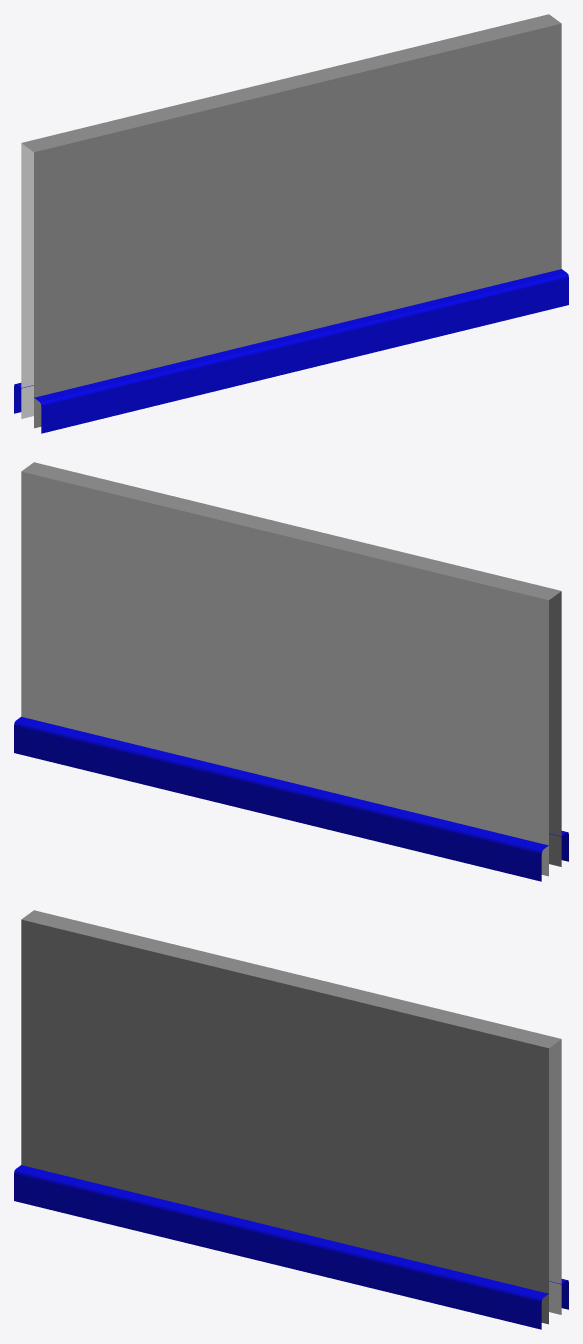
The model's file is HalfPlainWall.fbx.
The picture shows the model from 3 angles, top to bottom: view 1: azimuth 30°, elevation 25°; view 2: azimuth 150°, elevation 25°; view 3: azimuth 330°, elevation 25°; orthographic projection.
Parts seen in each view (by area): view 1: Wall, Trim; view 2: Wall, Trim; view 3: Wall, Trim.
Boxes of the visible parts, box(x1,y1,x2,y2) form: Wall: box(21, 14, 561, 428); Trim: box(14, 269, 568, 433); Wall: box(21, 462, 561, 876); Trim: box(14, 716, 568, 881); Wall: box(21, 910, 561, 1324); Trim: box(14, 1165, 568, 1329).
Bounding box in the file's own units: 12 × 6 × 1.07.
